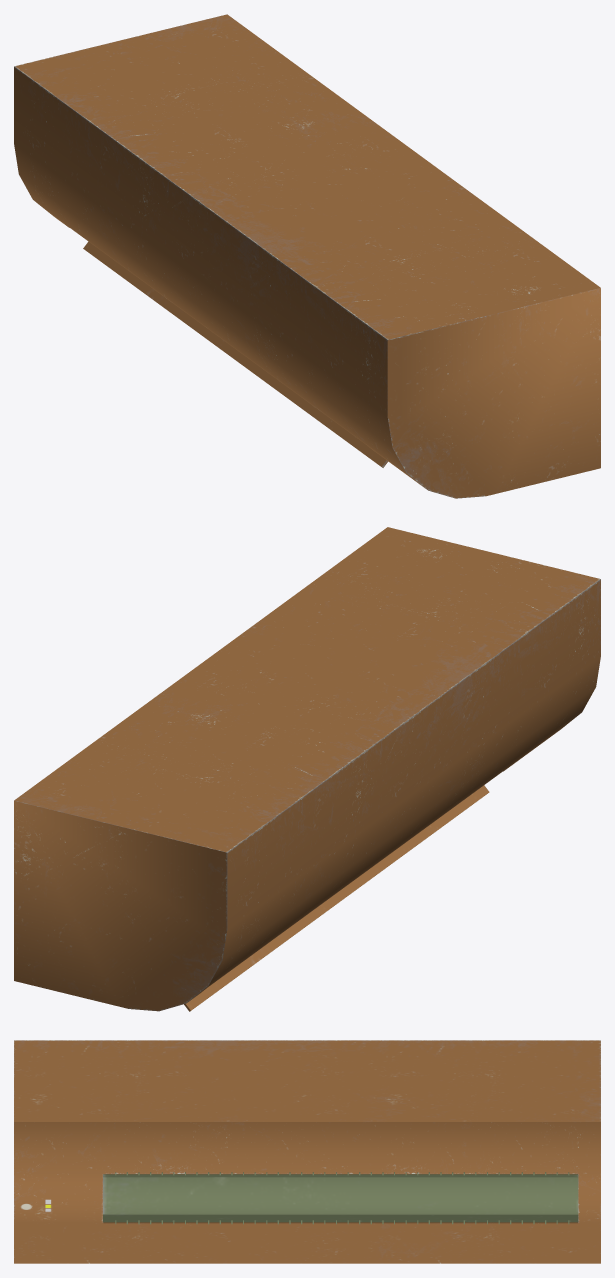
Rendered from BTMT_PTNTD_MayLanh.fbx.
3 views of the same model, one above another, from view 1: azimuth 30°, elevation 25°; view 2: azimuth 150°, elevation 25°; view 3: azimuth 270°, elevation 25° (orthographic). The views are drawn at different scales.
Parts seen in each view (by area): view 1: Q_BTMT_PNGT_MayLanh_BTMT_PNGT_MayLanh_Vo, Q_BTMT_PNGT_MayLanh_BTMT_PNGT_MayLanh_CanhGioNgang; view 2: Q_BTMT_PNGT_MayLanh_BTMT_PNGT_MayLanh_Vo, Q_BTMT_PNGT_MayLanh_BTMT_PNGT_MayLanh_CanhGioNgang; view 3: Q_BTMT_PNGT_MayLanh_BTMT_PNGT_MayLanh_Vo, Q_BTMT_PNGT_MayLanh_BTMT_PNGT_MayLanh_Bentrong, Q_BTMT_PNGT_MayLanh_BTMT_PNGT_MayLanh_CanhGioDoc.
Boxes of the visible parts, x1,y1,x2,y2 form: Q_BTMT_PNGT_MayLanh_BTMT_PNGT_MayLanh_Vo: [14, 14, 600, 498]; Q_BTMT_PNGT_MayLanh_BTMT_PNGT_MayLanh_CanhGioNgang: [83, 241, 388, 467]; Q_BTMT_PNGT_MayLanh_BTMT_PNGT_MayLanh_Vo: [14, 527, 600, 1011]; Q_BTMT_PNGT_MayLanh_BTMT_PNGT_MayLanh_CanhGioNgang: [184, 785, 489, 1011]; Q_BTMT_PNGT_MayLanh_BTMT_PNGT_MayLanh_Vo: [14, 1040, 600, 1263]; Q_BTMT_PNGT_MayLanh_BTMT_PNGT_MayLanh_Bentrong: [103, 1174, 578, 1222]; Q_BTMT_PNGT_MayLanh_BTMT_PNGT_MayLanh_CanhGioDoc: [115, 1172, 569, 1224].
Bounding box in the file's own units: 34 × 26.87 × 98.64.
